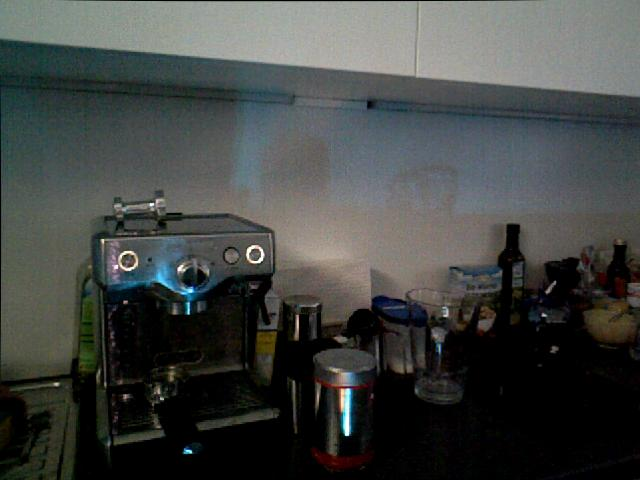bench: (62, 253, 110, 385), (497, 222, 526, 325), (605, 238, 630, 300)
bird: (579, 305, 638, 352), (453, 302, 497, 337)
handbag: (404, 285, 480, 405)
toilet: (17, 405, 48, 470)
